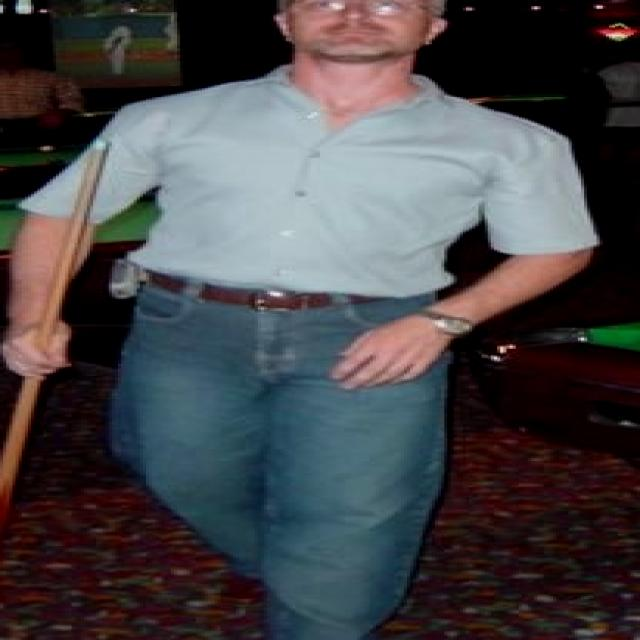piel: (330, 246, 602, 391), (274, 0, 447, 121), (0, 212, 102, 381)
